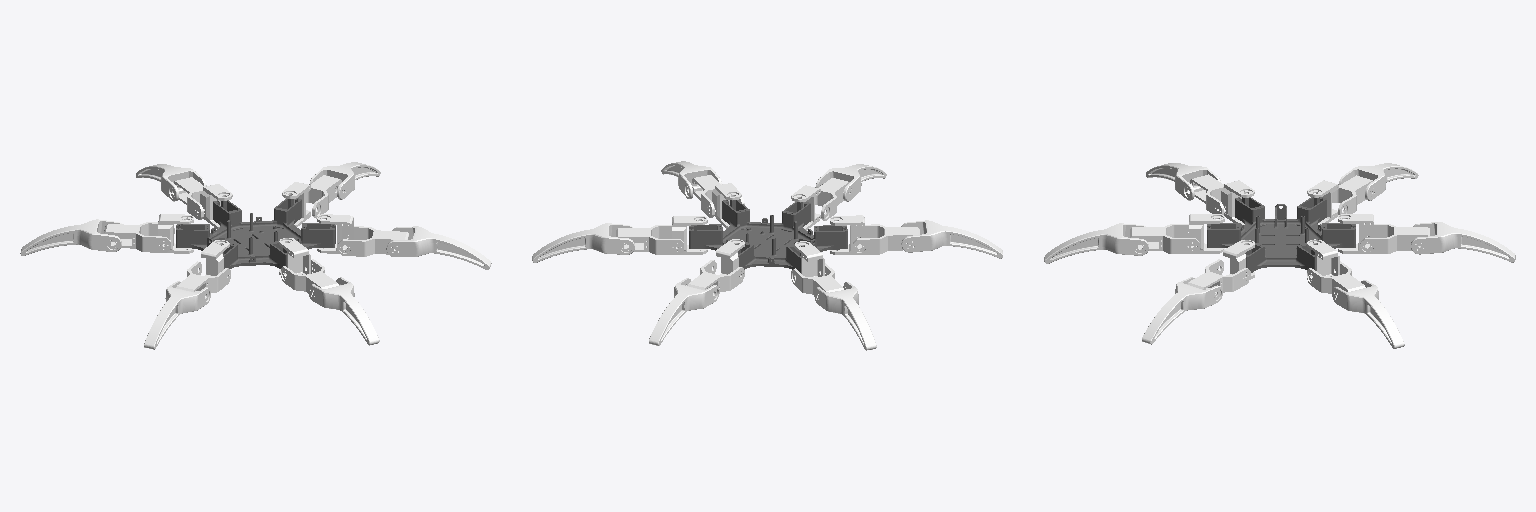
The robot description file, URDF, robot "Body":
<?xml version="1.0"?>
<robot name="Body">

  <link name="base_link">
    <visual>
      <origin xyz="0 0 0" rpy="0 0 0" />
      <geometry>
        <mesh filename="meshes/Body.stl" scale="0.001 0.001 0.001"/>
      </geometry>
      <material name="base_link_mat">
        <color rgba="0.50196471 0.50196471 0.50196471 1.00000000"/>
      </material>
    </visual>
    <collision>
      <origin xyz="0 0 0" rpy="0 0 0" />
      <geometry>
        <mesh filename="meshes/Body.stl" scale="0.001 0.001 0.001"/>
      </geometry>
    </collision>
    <inertial>
      <origin xyz="0 0 0" rpy="0 0 0" />
      <mass value="0.941" />
      <inertia ixx="0.1" ixy="0" ixz="0" iyy="0.1" iyz="0" izz="0.1" />
    </inertial>
  </link>

  <link name="lCoxa">
    <visual>
      <origin xyz="0.0065 -0.0045 0.02" rpy="0 0 -2.2340214" />
      <geometry>
        <mesh filename="meshes/Leg_A.stl" scale="0.001 0.001 0.001"/>
      </geometry>
      <material name="link_1786110311992_mat">
        <color rgba="1.00000000 1.00000000 1.00000000 1.00000000"/>
      </material>
    </visual>
    <collision>
      <origin xyz="0.0065 -0.0045 0.02" rpy="0 0 -2.2340214" />
      <geometry>
        <mesh filename="meshes/Leg_A.stl" scale="0.001 0.001 0.001"/>
      </geometry>
    </collision>
    <inertial>
      <origin xyz="0 0 0.25" rpy="0 0 0" />
      <mass value="0.101" />
      <inertia ixx="0.1" ixy="0" ixz="0" iyy="0.1" iyz="0" izz="0.1" />
    </inertial>
  </link>

  <link name="lCoxa_1">
    <visual>
      <origin xyz="0 -0.008 0.02" rpy="0 0 3.1415927" />
      <geometry>
        <mesh filename="meshes/Leg_A.stl" scale="0.001 0.001 0.001"/>
      </geometry>
      <material name="link_1786110490494_mat">
        <color rgba="1.00000000 1.00000000 1.00000000 1.00000000"/>
      </material>
    </visual>
    <collision>
      <origin xyz="0 -0.008 0.02" rpy="0 0 3.1415927" />
      <geometry>
        <mesh filename="meshes/Leg_A.stl" scale="0.001 0.001 0.001"/>
      </geometry>
    </collision>
    <inertial>
      <origin xyz="0 0 0.25" rpy="0 0 0" />
      <mass value="0.101" />
      <inertia ixx="0.1" ixy="0" ixz="0" iyy="0.1" iyz="0" izz="0.1" />
    </inertial>
  </link>

  <link name="lCoxa_2">
    <visual>
      <origin xyz="-0.0065 -0.005 0.02" rpy="0 0 2.146755" />
      <geometry>
        <mesh filename="meshes/Leg_A.stl" scale="0.001 0.001 0.001"/>
      </geometry>
      <material name="link_1786110625801_mat">
        <color rgba="1.00000000 1.00000000 1.00000000 1.00000000"/>
      </material>
    </visual>
    <collision>
      <origin xyz="-0.0065 -0.005 0.02" rpy="0 0 2.146755" />
      <geometry>
        <mesh filename="meshes/Leg_A.stl" scale="0.001 0.001 0.001"/>
      </geometry>
    </collision>
    <inertial>
      <origin xyz="0 0 0.25" rpy="0 0 0" scale="0.001 0.001 0.001"/>
      <mass value="0.101" />
      <inertia ixx="0.1" ixy="0" ixz="0" iyy="0.1" iyz="0" izz="0.1" />
    </inertial>
  </link>

  <link name="lCoxa_3">
    <visual>
      <origin xyz="-0.0065 0.005 0.02" rpy="0 0 0.9773844" />
      <geometry>
        <mesh filename="meshes/Leg_A.stl" scale="0.001 0.001 0.001"/>
      </geometry>
      <material name="link_1786110785174_mat">
        <color rgba="1.00000000 1.00000000 1.00000000 1.00000000"/>
      </material>
    </visual>
    <collision>
      <origin xyz="-0.0065 0.005 0.02" rpy="0 0 0.9773844" />
      <geometry>
        <mesh filename="meshes/Leg_A.stl" scale="0.001 0.001 0.001"/>
      </geometry>
    </collision>
    <inertial>
      <origin xyz="0 0 0.25" rpy="0 0 0" />
      <mass value="0.101" />
      <inertia ixx="0.1" ixy="0" ixz="0" iyy="0.1" iyz="0" izz="0.1" />
    </inertial>
  </link>

  <link name="lCoxa_4">
    <visual>
      <origin xyz="0 0.0078 0.02" rpy="0 0 0" />
      <geometry>
        <mesh filename="meshes/Leg_A.stl" scale="0.001 0.001 0.001"/>
      </geometry>
      <material name="link_1786110904640_mat">
        <color rgba="1.00000000 1.00000000 1.00000000 1.00000000"/>
      </material>
    </visual>
    <collision>
      <origin xyz="0 0.0078 0.02" rpy="0 0 0" />
      <geometry>
        <mesh filename="meshes/Leg_A.stl" scale="0.001 0.001 0.001"/>
      </geometry>
    </collision>
    <inertial>
      <origin xyz="0 0 0.25" rpy="0 0 0" />
      <mass value="0.101" />
      <inertia ixx="0.1" ixy="0" ixz="0" iyy="0.1" iyz="0" izz="0.1" />
    </inertial>
  </link>

  <link name="lCoxa_5">
    <visual>
      <origin xyz="0.006 0.004 0.02" rpy="0 0 -1.012291" />
      <geometry>
        <mesh filename="meshes/Leg_A.stl" scale="0.001 0.001 0.001"/>
      </geometry>
      <material name="link_1786111813053_mat">
        <color rgba="1.00000000 1.00000000 1.00000000 1.00000000"/>
      </material>
    </visual>
    <collision>
      <origin xyz="0.006 0.004 0.02" rpy="0 0 -1.012291" />
      <geometry>
        <mesh filename="meshes/Leg_A.stl" scale="0.001 0.001 0.001"/>
      </geometry>
    </collision>
    <inertial>
      <origin xyz="0 0 0.25" rpy="0 0 0" />
      <mass value="0.101" />
      <inertia ixx="0.1" ixy="0" ixz="0" iyy="0.1" iyz="0" izz="0.1" />
    </inertial>
  </link>

  <link name="femur">
    <visual>
      <origin xyz="0.018 0.05 0" rpy="0 0 1.5707963" />
      <geometry>
        <mesh filename="meshes/Leg_B.stl" scale="0.001 0.001 0.001"/>
      </geometry>
      <material name="link_1786115241546_mat">
        <color rgba="1.00000000 1.00000000 1.00000000 1.00000000"/>
      </material>
    </visual>
    <collision>
      <origin xyz="0.018 0.05 0" rpy="0 0 1.5707963" />
      <geometry>
        <mesh filename="meshes/Leg_B.stl" scale="0.001 0.001 0.001"/>
      </geometry>
    </collision>
    <inertial>
      <origin xyz="0 0 0.25" rpy="0 0 0" />
      <mass value="0.11" />
      <inertia ixx="0.1" ixy="0" ixz="0" iyy="0.1" iyz="0" izz="0.1" />
    </inertial>
  </link>

  <link name="link_LEG_C">
    <visual>
      <origin xyz="0.071 0.055 -0.043" rpy="0 1.0297443 3.1415927" />
      <geometry>
        <mesh filename="meshes/Leg_C.stl" scale="0.001 0.001 0.001"/>
      </geometry>
      <material name="link_1786115670894_mat">
        <color rgba="1.00000000 1.00000000 1.00000000 1.00000000"/>
      </material>
    </visual>
    <collision>
      <origin xyz="0.071 0.055 -0.043" rpy="0 1.0297443 3.1415927" />
      <geometry>
        <mesh filename="meshes/Leg_C.stl" scale="0.001 0.001 0.001"/>
      </geometry>
    </collision>
    <inertial>
      <origin xyz="0 0 0.25" rpy="0 0 0" />
      <mass value="0.064" />
      <inertia ixx="0.1" ixy="0" ixz="0" iyy="0.1" iyz="0" izz="0.1" />
    </inertial>
  </link>

  <link name="femur_1">
    <visual>
      <origin xyz="0 -0.022 0" rpy="0 0 0" />
      <geometry>
        <mesh filename="meshes/Leg_B.stl" scale="0.001 0.001 0.001"/>
      </geometry>
      <material name="link_1786116007225_mat">
        <color rgba="1.00000000 1.00000000 1.00000000 1.00000000"/>
      </material>
    </visual>
    <collision>
      <origin xyz="0 -0.022 0" rpy="0 0 0" />
      <geometry>
        <mesh filename="meshes/Leg_B.stl" scale="0.001 0.001 0.001"/>
      </geometry>
    </collision>
    <inertial>
      <origin xyz="0 0 0.25" rpy="0 0 0" />
      <mass value="0.11" />
      <inertia ixx="0.1" ixy="0" ixz="0" iyy="0.1" iyz="0" izz="0.1" />
    </inertial>
  </link>

  <link name="femur_2">
    <visual>
      <origin xyz="-0.018 0.02 0" rpy="0 0 -1.5707963" />
      <geometry>
        <mesh filename="meshes/Leg_B.stl" scale="0.001 0.001 0.001"/>
      </geometry>
      <material name="link_1786116185351_mat">
        <color rgba="1.00000000 1.00000000 1.00000000 1.00000000"/>
      </material>
    </visual>
    <collision>
      <origin xyz="-0.018 0.02 0" rpy="0 0 -1.5707963" />
      <geometry>
        <mesh filename="meshes/Leg_B.stl" scale="0.001 0.001 0.001"/>
      </geometry>
    </collision>
    <inertial>
      <origin xyz="0 0 0.25" rpy="0 0 0" />
      <mass value="0.11" />
      <inertia ixx="0.1" ixy="0" ixz="0" iyy="0.1" iyz="0" izz="0.1" />
    </inertial>
  </link>

  <link name="femur_3">
    <visual>
      <origin xyz="-0.018 0.03 0" rpy="0 0 -1.5707963" />
      <geometry>
        <mesh filename="meshes/Leg_B.stl" scale="0.001 0.001 0.001"/>
      </geometry>
      <material name="link_1786116355015_mat">
        <color rgba="1.00000000 1.00000000 1.00000000 1.00000000"/>
      </material>
    </visual>
    <collision>
      <origin xyz="-0.018 0.03 0" rpy="0 0 -1.5707963" />
      <geometry>
        <mesh filename="meshes/Leg_B.stl" scale="0.001 0.001 0.001"/>
      </geometry>
    </collision>
    <inertial>
      <origin xyz="0 0 0.25" rpy="0 0 0" />
      <mass value="0.11" />
      <inertia ixx="0.1" ixy="0" ixz="0" iyy="0.1" iyz="0" izz="0.1" />
    </inertial>
  </link>

  <link name="femur_4">
    <visual>
      <origin xyz="0.02 0.018 0" rpy="0 0 3.1415927" />
      <geometry>
        <mesh filename="meshes/Leg_B.stl" scale="0.001 0.001 0.001"/>
      </geometry>
      <material name="link_1786116615841_mat">
        <color rgba="1.00000000 1.00000000 1.00000000 1.00000000"/>
      </material>
    </visual>
    <collision>
      <origin xyz="0.02 0.018 0" rpy="0 0 3.1415927" />
      <geometry>
        <mesh filename="meshes/Leg_B.stl" scale="0.001 0.001 0.001"/>
      </geometry>
    </collision>
    <inertial>
      <origin xyz="0 0 0.25" rpy="0 0 0" />
      <mass value="0.11" />
      <inertia ixx="0.1" ixy="0" ixz="0" iyy="0.1" iyz="0" izz="0.1" />
    </inertial>
  </link>

  <link name="femur_5">
    <visual>
      <origin xyz="0.0185 0.02 0" rpy="0 0 1.5707963" />
      <geometry>
        <mesh filename="meshes/Leg_B.stl" scale="0.001 0.001 0.001"/>
      </geometry>
      <material name="link_1786116824097_mat">
        <color rgba="1.00000000 1.00000000 1.00000000 1.00000000"/>
      </material>
    </visual>
    <collision>
      <origin xyz="0.0185 0.02 0" rpy="0 0 1.5707963" />
      <geometry>
        <mesh filename="meshes/Leg_B.stl" scale="0.001 0.001 0.001"/>
      </geometry>
    </collision>
    <inertial>
      <origin xyz="0 0 0.25" rpy="0 0 0" />
      <mass value="0.11" />
      <inertia ixx="0.1" ixy="0" ixz="0" iyy="0.1" iyz="0" izz="0.1" />
    </inertial>
  </link>

  <link name="link_LEG_C_1">
    <visual>
      <origin xyz="0.035 -0.072 -0.043" rpy="0 1.0297443 1.5707963" />
      <geometry>
        <mesh filename="meshes/Leg_C.stl" scale="0.001 0.001 0.001"/>
      </geometry>
      <material name="link_1786117094655_mat">
        <color rgba="1.00000000 1.00000000 1.00000000 1.00000000"/>
      </material>
    </visual>
    <collision>
      <origin xyz="0.035 -0.072 -0.043" rpy="0 1.0297443 1.5707963" />
      <geometry>
        <mesh filename="meshes/Leg_C.stl" scale="0.001 0.001 0.001"/>
      </geometry>
    </collision>
    <inertial>
      <origin xyz="0 0 0.25" rpy="0 0 0" />
      <mass value="0.064" />
      <inertia ixx="0.1" ixy="0" ixz="0" iyy="0.1" iyz="0" izz="0.1" />
    </inertial>
  </link>

  <link name="link_LEG_C_2">
    <visual>
      <origin xyz="-0.071 0.015 -0.043" rpy="0 1.0297443 0" />
      <geometry>
        <mesh filename="meshes/Leg_C.stl" scale="0.001 0.001 0.001"/>
      </geometry>
      <material name="link_1786117349802_mat">
        <color rgba="1.00000000 1.00000000 1.00000000 1.00000000"/>
      </material>
    </visual>
    <collision>
      <origin xyz="-0.071 0.015 -0.043" rpy="0 1.0297443 0" />
      <geometry>
        <mesh filename="meshes/Leg_C.stl" scale="0.001 0.001 0.001"/>
      </geometry>
    </collision>
    <inertial>
      <origin xyz="0 0 0.25" rpy="0 0 0" />
      <mass value="0.064" />
      <inertia ixx="0.1" ixy="0" ixz="0" iyy="0.1" iyz="0" izz="0.1" />
    </inertial>
  </link>

  <link name="link_LEG_C_3">
    <visual>
      <origin xyz="-0.071 0.025 -0.043" rpy="0 1.0297443 0" />
      <geometry>
        <mesh filename="meshes/Leg_C.stl" scale="0.001 0.001 0.001"/>
      </geometry>
      <material name="link_1786117563931_mat">
        <color rgba="1.00000000 1.00000000 1.00000000 1.00000000"/>
      </material>
    </visual>
    <collision>
      <origin xyz="-0.071 0.025 -0.043" rpy="0 1.0297443 0" />
      <geometry>
        <mesh filename="meshes/Leg_C.stl" scale="0.001 0.001 0.001"/>
      </geometry>
    </collision>
    <inertial>
      <origin xyz="0 0 0.25" rpy="0 0 0" />
      <mass value="0.064" />
      <inertia ixx="0.1" ixy="0" ixz="0" iyy="0.1" iyz="0" izz="0.1" />
    </inertial>
  </link>

  <link name="link_LEG_C_4">
    <visual>
      <origin xyz="0.02 0.0717 -0.0428" rpy="0 1.0297443 -1.5707963" />
      <geometry>
        <mesh filename="meshes/Leg_C.stl" scale="0.001 0.001 0.001"/>
      </geometry>
      <material name="link_1786117835055_mat">
        <color rgba="1.00000000 1.00000000 1.00000000 1.00000000"/>
      </material>
    </visual>
    <collision>
      <origin xyz="0.02 0.0717 -0.0428" rpy="0 1.0297443 -1.5707963" />
      <geometry>
        <mesh filename="meshes/Leg_C.stl" scale="0.001 0.001 0.001"/>
      </geometry>
    </collision>
    <inertial>
      <origin xyz="0 0 0.25" rpy="0 0 0" />
      <mass value="0.064" />
      <inertia ixx="0.1" ixy="0" ixz="0" iyy="0.1" iyz="0" izz="0.1" />
    </inertial>
  </link>

  <link name="link_LEG_C_5">
    <visual>
      <origin xyz="0.072 0.02 -0.043" rpy="0 1.0297443 3.1415927" />
      <geometry>
        <mesh filename="meshes/Leg_C.stl" scale="0.001 0.001 0.001"/>
      </geometry>
      <material name="link_1786118018793_mat">
        <color rgba="1.00000000 1.00000000 1.00000000 1.00000000"/>
      </material>
    </visual>
    <collision>
      <origin xyz="0.072 0.02 -0.043" rpy="0 1.0297443 3.1415927" />
      <geometry>
        <mesh filename="meshes/Leg_C.stl" scale="0.001 0.001 0.001"/>
      </geometry>
    </collision>
    <inertial>
      <origin xyz="0 0 0.25" rpy="0 0 0" />
      <mass value="0.064" />
      <inertia ixx="0.1" ixy="0" ixz="0" iyy="0.1" iyz="0" izz="0.1" />
    </inertial>
  </link>

  <joint name="joint_2" type="revolute">
    <parent link="base_link" />
    <child link="lCoxa" />
    <origin xyz="0.101 -0.057 0" rpy="0 0 0" />
    <axis xyz="0 0 1" />
    <limit lower="-1.57" upper="1.57" effort="1" velocity="5.8" />
  </joint>

  <joint name="joint_3" type="revolute">
    <parent link="base_link" />
    <child link="lCoxa_1" />
    <origin xyz="0 -0.106 0" rpy="0 0 0" />
    <axis xyz="0 0 1" />
    <limit lower="-1.57" upper="1.57" effort="1" velocity="5.8" />
  </joint>

  <joint name="joint_4" type="revolute">
    <parent link="base_link" />
    <child link="lCoxa_2" />
    <origin xyz="-0.101 -0.057 0" rpy="0 0 0" />
    <axis xyz="0 0 1" />
    <limit lower="-1.57" upper="1.57" effort="1" velocity="5.8" />
  </joint>

  <joint name="joint_5" type="revolute">
    <parent link="base_link" />
    <child link="lCoxa_3" />
    <origin xyz="-0.101 0.057 0" rpy="0 0 0" />
    <axis xyz="0 0 1" />
    <limit lower="-1.57" upper="1.57" effort="1" velocity="5.8" />
  </joint>

  <joint name="joint_6" type="revolute">
    <parent link="base_link" />
    <child link="lCoxa_4" />
    <origin xyz="0 0.1064 0" rpy="0 0 0" />
    <axis xyz="0 0 1" />
    <limit lower="-1.57" upper="1.57" effort="1" velocity="5.8" />
  </joint>

  <joint name="joint_1" type="revolute">
    <parent link="base_link" />
    <child link="lCoxa_5" />
    <origin xyz="0.101 0.057 0" rpy="0 0 0" />
    <axis xyz="0 0 1" />
    <limit lower="-1.57" upper="1.57" effort="1" velocity="5.8" />
  </joint>

  <joint name="joint_7" type="revolute">
    <parent link="lCoxa" />
    <child link="femur" />
    <origin xyz="0 -0.065 0.01" rpy="0 0 -0.6457718" />
    <axis xyz="0 1 0" />
    <limit lower="-1.57" upper="1.57" effort="1" velocity="5.8" />
  </joint>

  <joint name="joint_8" type="revolute">
    <parent link="femur" />
    <child link="link_LEG_C" />
    <origin xyz="0.085 0 0" rpy="0 0 0" />
    <axis xyz="0 1 0" />
    <limit lower="-1.57" upper="1.57" effort="1" velocity="5.8" />
  </joint>

  <joint name="joint_9" type="revolute">
    <parent link="lCoxa_1" />
    <child link="femur_1" />
    <origin xyz="0 -0.038 0.01" rpy="0 0 0" />
    <axis xyz="1 0 0" />
    <limit lower="-1.57" upper="1.57" effort="1" velocity="5.8" />
  </joint>

  <joint name="joint_10" type="revolute">
    <parent link="lCoxa_2" />
    <child link="femur_2" />
    <origin xyz="-0.02 -0.04 0.01" rpy="0 0 0.5759587" />
    <axis xyz="0 1 0" />
    <limit lower="-1.57" upper="1.57" effort="1" velocity="5.8" />
  </joint>

  <joint name="joint_11" type="revolute">
    <parent link="lCoxa_3" />
    <child link="femur_3" />
    <origin xyz="-0.046 0 0.01" rpy="0 0 -0.6283185" />
    <axis xyz="0 1 0" />
    <limit lower="-1.57" upper="1.57" effort="1" velocity="5.8" />
  </joint>

  <joint name="joint_12" type="revolute">
    <parent link="lCoxa_4" />
    <child link="femur_4" />
    <origin xyz="-0.02 0.038 0.01" rpy="0 0 0" />
    <axis xyz="1 0 0" />
    <limit lower="-1.57" upper="1.57" effort="1" velocity="5.8" />
  </joint>

  <joint name="joint_13" type="revolute">
    <parent link="lCoxa_5" />
    <child link="femur_5" />
    <origin xyz="0.044 0 0.01" rpy="0 0 0.5235988" />
    <axis xyz="0 1 0" />
    <limit lower="-1.57" upper="1.57" effort="1" velocity="5.8" />
  </joint>

  <joint name="joint_14" type="revolute">
    <parent link="femur_1" />
    <child link="link_LEG_C_1" />
    <origin xyz="-0.03 -0.09 0" rpy="0 0 0" />
    <axis xyz="1 0 0" />
    <limit lower="-1.57" upper="1.57" effort="1" velocity="5.8" />
  </joint>

  <joint name="joint_15" type="revolute">
    <parent link="femur_2" />
    <child link="link_LEG_C_2" />
    <origin xyz="-0.086 0 0" rpy="0 0 0" />
    <axis xyz="0 1 0" />
    <limit lower="-1.57" upper="1.57" effort="1" velocity="5.8" />
  </joint>

  <joint name="joint_16" type="revolute">
    <parent link="femur_3" />
    <child link="link_LEG_C_3" />
    <origin xyz="-0.086 0 0" rpy="0 0 0" />
    <axis xyz="0 1 0" />
    <limit lower="-1.57" upper="1.57" effort="1" velocity="5.8" />
  </joint>

  <joint name="joint_17" type="revolute">
    <parent link="femur_4" />
    <child link="link_LEG_C_4" />
    <origin xyz="0 0.086 0" rpy="0 0 0" />
    <axis xyz="1 0 0" />
    <limit lower="-1.57" upper="1.57" effort="1" velocity="5.8" />
  </joint>

  <joint name="joint_18" type="revolute">
    <parent link="femur_5" />
    <child link="link_LEG_C_5" />
    <origin xyz="0.086 0 0" rpy="0 0 0" />
    <axis xyz="0 1 0" />
    <limit lower="-1.57" upper="1.57" effort="1" velocity="5.8" />
  </joint>


</robot>

--- Render facts (derived) ---
3 views of the same robot in one strip: view 1: azimuth 30°, elevation 25°; view 2: azimuth 150°, elevation 25°; view 3: azimuth 270°, elevation 25° (orthographic).
Robot: Body — 19 links, 18 joints (18 revolute); root link base_link; default pose: all joints at 0.
Visible links, largest first — view 1: base_link, link_LEG_C, link_LEG_C_3, link_LEG_C_1, link_LEG_C_2, femur_3, femur, link_LEG_C_4, link_LEG_C_5, femur_1, femur_2, femur_5 (+7 smaller); view 2: base_link, link_LEG_C_2, link_LEG_C_5, link_LEG_C_4, link_LEG_C_3, femur_5, femur_2, link_LEG_C_1, femur_4, link_LEG_C, femur_1, femur_3 (+7 smaller); view 3: base_link, link_LEG_C_4, link_LEG_C_1, link_LEG_C, link_LEG_C_5, femur_1, femur_4, link_LEG_C_3, link_LEG_C_2, femur, femur_5, femur_3 (+7 smaller).
Boxes of the visible links, x1=… form: base_link: x1=176, y1=198, x2=335, y2=268; link_LEG_C: x1=386, y1=226, x2=491, y2=269; link_LEG_C_3: x1=20, y1=219, x2=121, y2=255; link_LEG_C_1: x1=308, y1=277, x2=379, y2=345; link_LEG_C_2: x1=144, y1=281, x2=210, y2=349; femur_3: x1=104, y1=222, x2=174, y2=252; femur: x1=338, y1=226, x2=408, y2=256; link_LEG_C_4: x1=136, y1=164, x2=206, y2=201; link_LEG_C_5: x1=309, y1=162, x2=380, y2=199; femur_1: x1=281, y1=259, x2=338, y2=293; femur_2: x1=176, y1=261, x2=230, y2=295; femur_5: x1=285, y1=175, x2=341, y2=218; base_link: x1=689, y1=200, x2=847, y2=272; link_LEG_C_2: x1=901, y1=220, x2=1002, y2=258; link_LEG_C_5: x1=532, y1=223, x2=634, y2=262; link_LEG_C_4: x1=649, y1=278, x2=719, y2=345; link_LEG_C_3: x1=814, y1=282, x2=876, y2=350; femur_5: x1=616, y1=225, x2=683, y2=254; femur_2: x1=853, y1=224, x2=919, y2=254; link_LEG_C_1: x1=815, y1=164, x2=886, y2=201; femur_4: x1=688, y1=260, x2=744, y2=294; link_LEG_C: x1=661, y1=161, x2=721, y2=198; femur_1: x1=794, y1=178, x2=849, y2=220; femur_3: x1=791, y1=263, x2=843, y2=294; base_link: x1=1207, y1=197, x2=1355, y2=272; link_LEG_C_4: x1=1411, y1=222, x2=1515, y2=262; link_LEG_C_1: x1=1044, y1=223, x2=1148, y2=263; link_LEG_C: x1=1142, y1=277, x2=1222, y2=344; link_LEG_C_5: x1=1332, y1=280, x2=1404, y2=348; femur_1: x1=1130, y1=224, x2=1199, y2=253; femur_4: x1=1360, y1=224, x2=1429, y2=253; link_LEG_C_3: x1=1338, y1=163, x2=1418, y2=200; link_LEG_C_2: x1=1146, y1=163, x2=1220, y2=200; femur: x1=1187, y1=259, x2=1250, y2=296; femur_5: x1=1307, y1=261, x2=1365, y2=293; femur_3: x1=1332, y1=175, x2=1372, y2=214.
Size in the robot's own frame: 0.6919 by 0.7838 by 0.0795 metres.
19 mesh visuals loaded from 4 distinct referenced files (4 binary STL).
